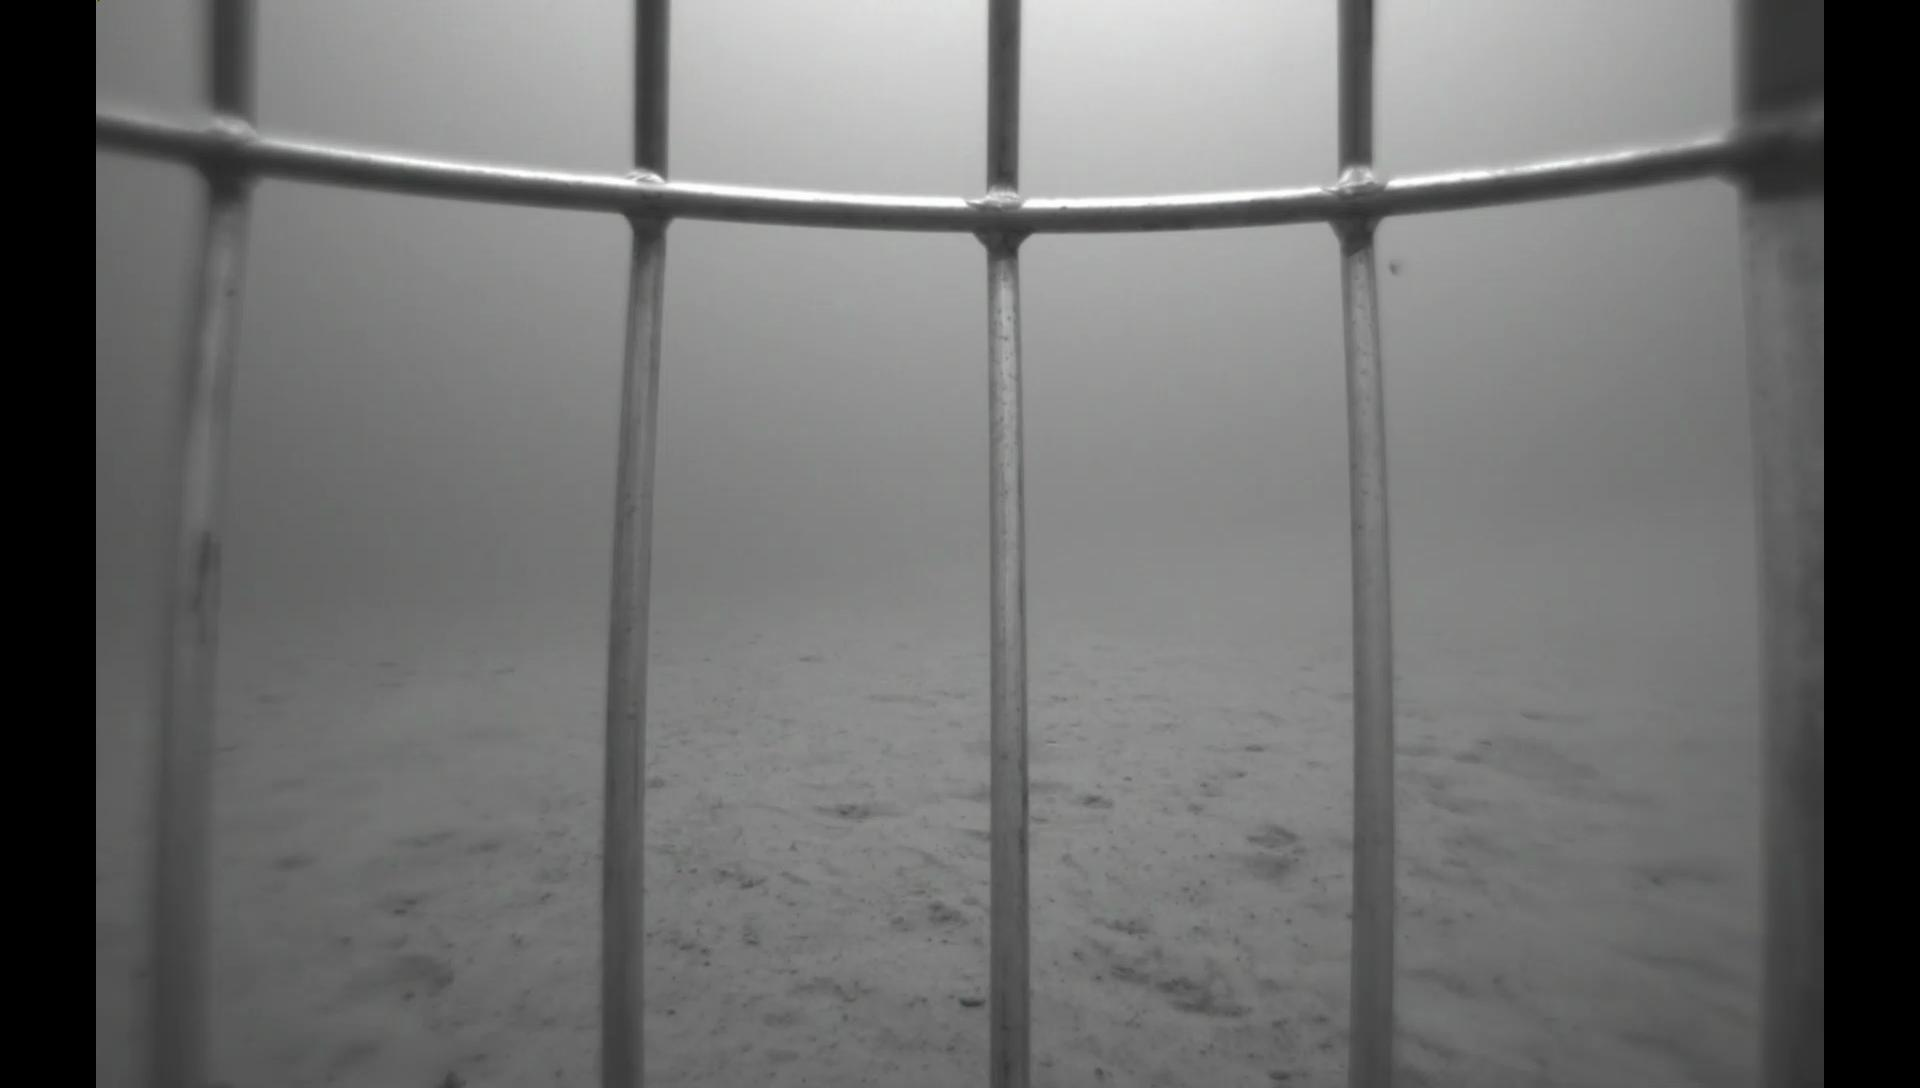PRISTIPOMOIDES-170151800: (1444, 717, 1614, 803), (916, 706, 1073, 778)
